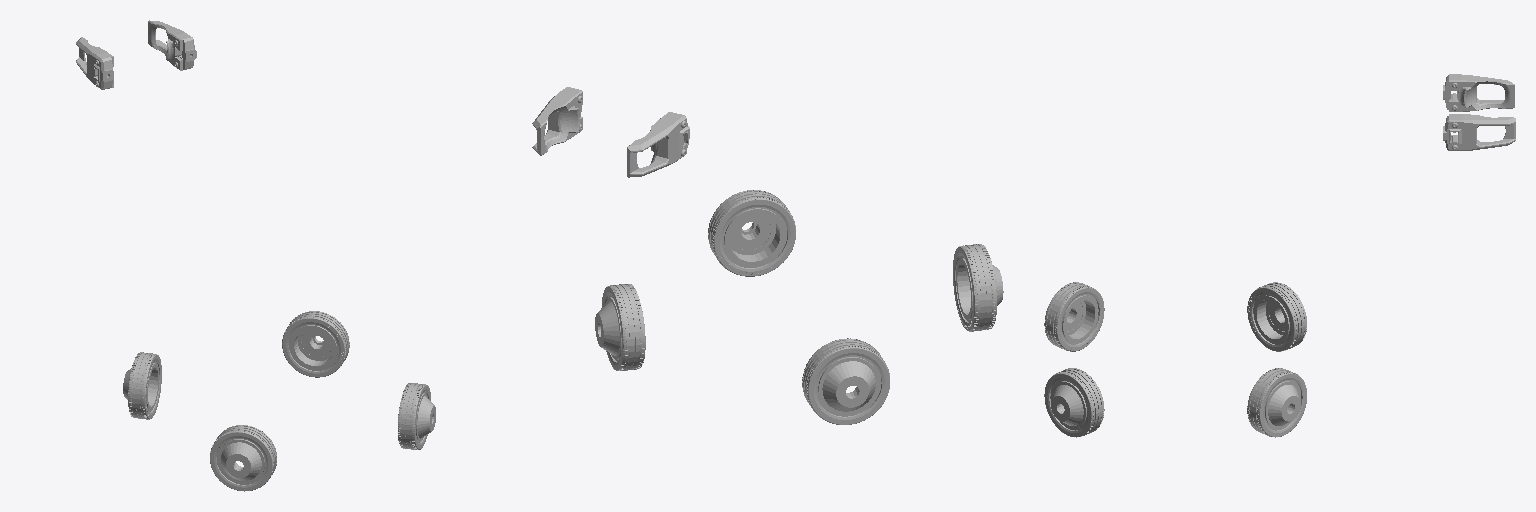
The robot description file, URDF, robot "omnidirectbot":
<?xml version="1.0" encoding="utf-8"?>
<!-- This URDF was automatically created by SolidWorks to URDF Exporter! Originally created by [author] ([email redacted]) 
     Commit Version: 1.6.0-1-g15f4949  Build Version: 1.6.7594.29634
     For more information, please see http://wiki.ros.org/sw_urdf_exporter -->
<robot
  name="omnidirectbot">
  <link
    name="base_link">
    <inertial>
      <origin
        xyz="0.0159721095649099 0.00224275619197631 0.1345375772092"
        rpy="0 0 0" />
      <mass
        value="0.828550966382806" />
      <inertia
        ixx="0.00274004667548087"
        ixy="2.8115139611349E-06"
        ixz="6.72388559675742E-08"
        iyy="0.00289809377513454"
        iyz="2.13313382622723E-06"
        izz="0.00505022876581928" />
    </inertial>
    <visual>
      <origin
        xyz="0 0 0"
        rpy="0 0 0" />
      <geometry>
        <mesh
          filename="package://omnidirectbot/meshes/base_link.STL" />
      </geometry>
      <material
        name="">
        <color
          rgba="0.749019607843137 0.749019607843137 0.749019607843137 1" />
      </material>
    </visual>
    <collision>
      <origin
        xyz="0 0 0"
        rpy="0 0 0" />
      <geometry>
        <mesh
          filename="package://omnidirectbot/meshes/base_link.STL" />
      </geometry>
    </collision>
  </link>
  <link
    name="caster_link1">
    <inertial>
      <origin
        xyz="-0.0155552849466845 -0.0590998386941178 -4.84880240054358E-06"
        rpy="0 0 0" />
      <mass
        value="0.0799093668159606" />
      <inertia
        ixx="2.04076055004472E-05"
        ixy="4.58261027105807E-06"
        ixz="1.13538002349658E-10"
        iyy="2.05066023129978E-05"
        iyz="-7.52578086408992E-11"
        izz="2.39023505326146E-05" />
    </inertial>
    <visual>
      <origin
        xyz="0 0 0"
        rpy="0 0 0" />
      <geometry>
        <mesh
          filename="package://omnidirectbot/meshes/caster_link1.STL" />
      </geometry>
      <material
        name="">
        <color
          rgba="0.749019607843137 0.749019607843137 0.749019607843137 1" />
      </material>
    </visual>
    <collision>
      <origin
        xyz="0 0 0"
        rpy="0 0 0" />
      <geometry>
        <mesh
          filename="package://omnidirectbot/meshes/caster_link1.STL" />
      </geometry>
    </collision>
  </link>
  <joint
    name="caster_joint1"
    type="revolute">
    <origin
      xyz="-0.08181 0.099193 0.17623"
      rpy="1.5708 0 -0.7854" />
    <parent
      link="base_link" />
    <child
      link="caster_link1" />
    <axis
      xyz="0 -1 0" />
    <limit
      lower="-1.57"
      upper="1.57"
      effort="0"
      velocity="0" />
  </joint>
  <link
    name="wheel_link1">
    <inertial>
      <origin
        xyz="2.40854054799067E-06 -1.56676912355103E-06 -0.00303861065239627"
        rpy="0 0 0" />
      <mass
        value="0.0450942716330638" />
      <inertia
        ixx="1.52670658972737E-05"
        ixy="7.70178129590836E-10"
        ixz="-9.81587682242567E-10"
        iyy="1.52692704899531E-05"
        iyz="6.47560386175647E-10"
        izz="2.6872754179264E-05" />
    </inertial>
    <visual>
      <origin
        xyz="0 0 0"
        rpy="0 0 0" />
      <geometry>
        <mesh
          filename="package://omnidirectbot/meshes/wheel_link1.STL" />
      </geometry>
      <material
        name="">
        <color
          rgba="0.749019607843137 0.749019607843137 0.749019607843137 1" />
      </material>
    </visual>
    <collision>
      <origin
        xyz="0 0 0"
        rpy="0 0 0" />
      <geometry>
        <mesh
          filename="package://omnidirectbot/meshes/wheel_link1.STL" />
      </geometry>
    </collision>
  </link>
  <joint
    name="wheel_joint1"
    type="continuous">
    <origin
      xyz="0 -0.080086 0"
      rpy="-1.5708 -0.84881 -1.5708" />
    <parent
      link="caster_link1" />
    <child
      link="wheel_link1" />
    <axis
      xyz="0 0 1" />
  </joint>
  <link
    name="caster_link2">
    <inertial>
      <origin
        xyz="-0.0155552849407855 -0.05909983905751 -4.8488152321613E-06"
        rpy="0 0 0" />
      <mass
        value="0.0799093668004115" />
      <inertia
        ixx="2.04076055002732E-05"
        ixy="4.5826102710524E-06"
        ixz="1.13535685052168E-10"
        iyy="2.05066023128727E-05"
        iyz="-7.52578170240386E-11"
        izz="2.39023505324843E-05" />
    </inertial>
    <visual>
      <origin
        xyz="0 0 0"
        rpy="0 0 0" />
      <geometry>
        <mesh
          filename="package://omnidirectbot/meshes/caster_link2.STL" />
      </geometry>
      <material
        name="">
        <color
          rgba="0.749019607843137 0.749019607843137 0.749019607843137 1" />
      </material>
    </visual>
    <collision>
      <origin
        xyz="0 0 0"
        rpy="0 0 0" />
      <geometry>
        <mesh
          filename="package://omnidirectbot/meshes/caster_link2.STL" />
      </geometry>
    </collision>
  </link>
  <joint
    name="caster_joint2"
    type="revolute">
    <origin
      xyz="0.11405 0.099122 0.17623"
      rpy="1.5708 0 -2.3562" />
    <parent
      link="base_link" />
    <child
      link="caster_link2" />
    <axis
      xyz="0 -1 0" />
    <limit
      lower="-1.57"
      upper="1.57"
      effort="0"
      velocity="0" />
  </joint>
  <link
    name="wheel_link2">
    <inertial>
      <origin
        xyz="-8.86769340457949E-07 -2.7338066356658E-06 -0.00303861109042136"
        rpy="0 0 0" />
      <mass
        value="0.0450942715750492" />
      <inertia
        ixx="1.52695041439647E-05"
        ixy="-1.19409694320958E-10"
        ixz="3.70462080070691E-10"
        iyy="1.52668318805047E-05"
        iyz="1.11627420840805E-09"
        izz="2.68727541461807E-05" />
    </inertial>
    <visual>
      <origin
        xyz="0 0 0"
        rpy="0 0 0" />
      <geometry>
        <mesh
          filename="package://omnidirectbot/meshes/wheel_link2.STL" />
      </geometry>
      <material
        name="">
        <color
          rgba="0.749019607843137 0.749019607843137 0.749019607843137 1" />
      </material>
    </visual>
    <collision>
      <origin
        xyz="0 0 0"
        rpy="0 0 0" />
      <geometry>
        <mesh
          filename="package://omnidirectbot/meshes/wheel_link2.STL" />
      </geometry>
    </collision>
  </link>
  <joint
    name="wheel_joint2"
    type="continuous">
    <origin
      xyz="0 -0.080086 0"
      rpy="1.5708 -0.81739 1.5708" />
    <parent
      link="caster_link2" />
    <child
      link="wheel_link2" />
    <axis
      xyz="0 0 1" />
  </joint>
  <link
    name="caster_link3">
    <inertial>
      <origin
        xyz="-0.0155552850671327 -0.0590998391449928 -4.84882023318867E-06"
        rpy="0 0 0" />
      <mass
        value="0.0799093671374404" />
      <inertia
        ixx="2.04076055040449E-05"
        ixy="4.58261027107902E-06"
        ixz="1.13534672037185E-10"
        iyy="2.05066023156955E-05"
        iyz="-7.52578205938046E-11"
        izz="2.39023505353079E-05" />
    </inertial>
    <visual>
      <origin
        xyz="0 0 0"
        rpy="0 0 0" />
      <geometry>
        <mesh
          filename="package://omnidirectbot/meshes/caster_link3.STL" />
      </geometry>
      <material
        name="">
        <color
          rgba="0.749019607843137 0.749019607843137 0.749019607843137 1" />
      </material>
    </visual>
    <collision>
      <origin
        xyz="0 0 0"
        rpy="0 0 0" />
      <geometry>
        <mesh
          filename="package://omnidirectbot/meshes/caster_link3.STL" />
      </geometry>
    </collision>
  </link>
  <joint
    name="caster_joint3"
    type="revolute">
    <origin
      xyz="-0.081881 -0.096667 0.17623"
      rpy="1.5708 0 0.7854" />
    <parent
      link="base_link" />
    <child
      link="caster_link3" />
    <axis
      xyz="0 -1 0" />
    <limit
      lower="-1.57"
      upper="1.57"
      effort="0"
      velocity="0" />
  </joint>
  <link
    name="wheel_link3">
    <inertial>
      <origin
        xyz="-2.82887973858392E-06 -4.89261457944923E-07 -0.00303861196716623"
        rpy="0 0 0" />
      <mass
        value="0.0450942715746105" />
      <inertia
        ixx="1.52673097667287E-05"
        ixy="-1.0367335073758E-09"
        ixz="1.1592980387725E-09"
        iyy="1.52690255862927E-05"
        iyz="1.92220470125054E-10"
        izz="2.68727541458412E-05" />
    </inertial>
    <visual>
      <origin
        xyz="0 0 0"
        rpy="0 0 0" />
      <geometry>
        <mesh
          filename="package://omnidirectbot/meshes/wheel_link3.STL" />
      </geometry>
      <material
        name="">
        <color
          rgba="0.749019607843137 0.749019607843137 0.749019607843137 1" />
      </material>
    </visual>
    <collision>
      <origin
        xyz="0 0 0"
        rpy="0 0 0" />
      <geometry>
        <mesh
          filename="package://omnidirectbot/meshes/wheel_link3.STL" />
      </geometry>
    </collision>
  </link>
  <joint
    name="wheel_joint3"
    type="continuous">
    <origin
      xyz="0 -0.080086 0"
      rpy="1.5708 -0.036844 1.5708" />
    <parent
      link="caster_link3" />
    <child
      link="wheel_link3" />
    <axis
      xyz="0 0 1" />
  </joint>
  <link
    name="caster_link4">
    <inertial>
      <origin
        xyz="-0.0155552848609414 -0.0590998390064758 -5.48488182232632E-05"
        rpy="0 0 0" />
      <mass
        value="0.0799093666079426" />
      <inertia
        ixx="2.04076054981193E-05"
        ixy="4.58261027096989E-06"
        ixz="1.13537469331306E-10"
        iyy="2.05066023113094E-05"
        iyz="-7.52578107495066E-11"
        izz="2.39023505309242E-05" />
    </inertial>
    <visual>
      <origin
        xyz="0 0 0"
        rpy="0 0 0" />
      <geometry>
        <mesh
          filename="package://omnidirectbot/meshes/caster_link4.STL" />
      </geometry>
      <material
        name="">
        <color
          rgba="0.749019607843137 0.749019607843137 0.749019607843137 1" />
      </material>
    </visual>
    <collision>
      <origin
        xyz="0 0 0"
        rpy="0 0 0" />
      <geometry>
        <mesh
          filename="package://omnidirectbot/meshes/caster_link4.STL" />
      </geometry>
    </collision>
  </link>
  <joint
    name="caster_joint4"
    type="revolute">
    <origin
      xyz="0.11409 -0.096631 0.17623"
      rpy="1.5708 0 2.3562" />
    <parent
      link="base_link" />
    <child
      link="caster_link4" />
    <axis
      xyz="0 -1 0" />
    <limit
      lower="-1.57"
      upper="1.57"
      effort="0"
      velocity="0" />
  </joint>
  <link
    name="wheel_link4">
    <inertial>
      <origin
        xyz="0.00303861196739572 1.95956082350152E-06 -2.09745763153635E-06"
        rpy="0 0 0" />
      <mass
        value="0.0450942715735576" />
      <inertia
        ixx="2.68727541461959E-05"
        ixy="8.08074819096868E-10"
        ixz="-8.52983778452163E-10"
        iyy="1.52689336034599E-05"
        iyz="1.10666062120856E-09"
        izz="1.52674017498127E-05" />
    </inertial>
    <visual>
      <origin
        xyz="0 0 0"
        rpy="0 0 0" />
      <geometry>
        <mesh
          filename="package://omnidirectbot/meshes/wheel_link4.STL" />
      </geometry>
      <material
        name="">
        <color
          rgba="0.749019607843137 0.749019607843137 0.749019607843137 1" />
      </material>
    </visual>
    <collision>
      <origin
        xyz="0 0 0"
        rpy="0 0 0" />
      <geometry>
        <mesh
          filename="package://omnidirectbot/meshes/wheel_link4.STL" />
      </geometry>
    </collision>
  </link>
  <joint
    name="wheel_joint4"
    type="continuous">
    <origin
      xyz="0 -0.080086 -5E-05"
      rpy="1.0701 0 -3.1416" />
    <parent
      link="caster_link4" />
    <child
      link="wheel_link4" />
    <axis
      xyz="-1 0 0" />
  </joint>
  <link
    name="arm_link1">
    <inertial>
      <origin
        xyz="-0.000752026190226237 0.0180936775412316 -0.0011577321151639"
        rpy="0 0 0" />
      <mass
        value="0.0651397661322798" />
      <inertia
        ixx="2.43954882193296E-05"
        ixy="-4.54900131538805E-08"
        ixz="2.84725500162364E-08"
        iyy="3.74885604342254E-05"
        iyz="3.76202075378381E-08"
        izz="2.49928523588235E-05" />
    </inertial>
    <visual>
      <origin
        xyz="0 0 0"
        rpy="0 0 0" />
      <geometry>
        <mesh
          filename="package://omnidirectbot/meshes/arm_link1.STL" />
      </geometry>
      <material
        name="">
        <color
          rgba="0.996078431372549 0.996078431372549 1 1" />
      </material>
    </visual>
    <collision>
      <origin
        xyz="0 0 0"
        rpy="0 0 0" />
      <geometry>
        <mesh
          filename="package://omnidirectbot/meshes/arm_link1.STL" />
      </geometry>
    </collision>
  </link>
  <joint
    name="arm_joint1"
    type="revolute">
    <origin
      xyz="0.016085 0.0012277 0.17603"
      rpy="1.5708 0 1.5708" />
    <parent
      link="base_link" />
    <child
      link="arm_link1" />
    <axis
      xyz="0 -1 0" />
    <limit
      lower="-1.57"
      upper="1.57"
      effort="0"
      velocity="0" />
  </joint>
  <link
    name="arm_link2">
    <inertial>
      <origin
        xyz="-0.0912947093746102 -0.0182924123376454 -0.00966983332273864"
        rpy="0 0 0" />
      <mass
        value="0.0938705648170834" />
      <inertia
        ixx="1.41599108093718E-05"
        ixy="-7.2465795297169E-09"
        ixz="-1.59852044361437E-06"
        iyy="4.22627440455491E-05"
        iyz="-3.52460708571515E-08"
        izz="3.50681459235357E-05" />
    </inertial>
    <visual>
      <origin
        xyz="0 0 0"
        rpy="0 0 0" />
      <geometry>
        <mesh
          filename="package://omnidirectbot/meshes/arm_link2.STL" />
      </geometry>
      <material
        name="">
        <color
          rgba="0.996078431372549 0.996078431372549 1 1" />
      </material>
    </visual>
    <collision>
      <origin
        xyz="0 0 0"
        rpy="0 0 0" />
      <geometry>
        <mesh
          filename="package://omnidirectbot/meshes/arm_link2.STL" />
      </geometry>
    </collision>
  </link>
  <joint
    name="arm_joint2"
    type="revolute">
    <origin
      xyz="0 0.04625 0.0176"
      rpy="1.5708 0 -1.5708" />
    <parent
      link="arm_link1" />
    <child
      link="arm_link2" />
    <axis
      xyz="0 1 0" />
    <limit
      lower="-1.57"
      upper="1.57"
      effort="0"
      velocity="0" />
  </joint>
  <link
    name="arm_link3">
    <inertial>
      <origin
        xyz="-0.0182687991697674 -0.0135886829308107 0.0740296096450109"
        rpy="0 0 0" />
      <mass
        value="0.0825405885709327" />
      <inertia
        ixx="2.90819800716655E-05"
        ixy="6.1757199863465E-09"
        ixz="3.29512143868356E-08"
        iyy="2.36535279102476E-05"
        iyz="2.33723868819152E-06"
        izz="1.10874945911255E-05" />
    </inertial>
    <visual>
      <origin
        xyz="0 0 0"
        rpy="0 0 0" />
      <geometry>
        <mesh
          filename="package://omnidirectbot/meshes/arm_link3.STL" />
      </geometry>
      <material
        name="">
        <color
          rgba="0.745098039215686 0.737254901960784 0.729411764705882 1" />
      </material>
    </visual>
    <collision>
      <origin
        xyz="0 0 0"
        rpy="0 0 0" />
      <geometry>
        <mesh
          filename="package://omnidirectbot/meshes/arm_link3.STL" />
      </geometry>
    </collision>
  </link>
  <joint
    name="arm_joint3"
    type="revolute">
    <origin
      xyz="-0.137 0.0002 -0.04755"
      rpy="2.9608 0 1.5708" />
    <parent
      link="arm_link2" />
    <child
      link="arm_link3" />
    <axis
      xyz="-1 0 0" />
    <limit
      lower="-1.57"
      upper="1.57"
      effort="0"
      velocity="0" />
  </joint>
  <link
    name="arm_link4">
    <inertial>
      <origin
        xyz="0.0284610203255143 -0.0174036283745929 0.0480577312472342"
        rpy="0 0 0" />
      <mass
        value="0.100613003618247" />
      <inertia
        ixx="5.68282223773968E-05"
        ixy="-3.39222816961432E-08"
        ixz="-1.01512579805851E-06"
        iyy="1.67039081838444E-05"
        iyz="-2.33334411272346E-07"
        izz="6.12680798908221E-05" />
    </inertial>
    <visual>
      <origin
        xyz="0 0 0"
        rpy="0 0 0" />
      <geometry>
        <mesh
          filename="package://omnidirectbot/meshes/arm_link4.STL" />
      </geometry>
      <material
        name="">
        <color
          rgba="0.996078431372549 0.996078431372549 1 1" />
      </material>
    </visual>
    <collision>
      <origin
        xyz="0 0 0"
        rpy="0 0 0" />
      <geometry>
        <mesh
          filename="package://omnidirectbot/meshes/arm_link4.STL" />
      </geometry>
    </collision>
  </link>
  <joint
    name="arm_joint4"
    type="revolute">
    <origin
      xyz="0.0002 -0.024943 0.13598"
      rpy="0 0.1808 -1.5708" />
    <parent
      link="arm_link3" />
    <child
      link="arm_link4" />
    <axis
      xyz="0 1 0" />
    <limit
      lower="-1.57"
      upper="1.57"
      effort="0"
      velocity="0" />
  </joint>
  <link
    name="gripper_link1">
    <inertial>
      <origin
        xyz="1.82964687844844E-08 0.00824933254630964 0.0184708003713731"
        rpy="0 0 0" />
      <mass
        value="0.0180940684774838" />
      <inertia
        ixx="3.49410179132563E-06"
        ixy="-1.5668377814591E-12"
        ixz="4.95814443819984E-12"
        iyy="4.94469935808064E-06"
        iyz="1.27521217510343E-08"
        izz="2.15398873703311E-06" />
    </inertial>
    <visual>
      <origin
        xyz="0 0 0"
        rpy="0 0 0" />
      <geometry>
        <mesh
          filename="package://omnidirectbot/meshes/gripper_link1.STL" />
      </geometry>
      <material
        name="">
        <color
          rgba="0.749019607843137 0.749019607843137 0.749019607843137 1" />
      </material>
    </visual>
    <collision>
      <origin
        xyz="0 0 0"
        rpy="0 0 0" />
      <geometry>
        <mesh
          filename="package://omnidirectbot/meshes/gripper_link1.STL" />
      </geometry>
    </collision>
  </link>
  <joint
    name="gripper_joint1"
    type="prismatic">
    <origin
      xyz="-0.00012864 -0.0713 0.1159"
      rpy="-3.1416 0 3.1416" />
    <parent
      link="arm_link4" />
    <child
      link="gripper_link1" />
    <axis
      xyz="0 -1 0" />
    <limit
      lower="-0.04"
      upper="0"
      effort="0"
      velocity="0" />
  </joint>
  <link
    name="gripper_link2">
    <inertial>
      <origin
        xyz="1.84123709057182E-08 0.00824933250548065 0.0184708003682835"
        rpy="0 0 0" />
      <mass
        value="0.018094068316114" />
      <inertia
        ixx="3.49410178495327E-06"
        ixy="-1.59500305785378E-12"
        ixz="4.94062078701807E-12"
        iyy="4.94469937522808E-06"
        iyz="1.27521268723169E-08"
        izz="2.15398877300651E-06" />
    </inertial>
    <visual>
      <origin
        xyz="0 0 0"
        rpy="0 0 0" />
      <geometry>
        <mesh
          filename="package://omnidirectbot/meshes/gripper_link2.STL" />
      </geometry>
      <material
        name="">
        <color
          rgba="0.749019607843137 0.749019607843137 0.749019607843137 1" />
      </material>
    </visual>
    <collision>
      <origin
        xyz="0 0 0"
        rpy="0 0 0" />
      <geometry>
        <mesh
          filename="package://omnidirectbot/meshes/gripper_link2.STL" />
      </geometry>
    </collision>
  </link>
  <joint
    name="gripper_joint2"
    type="prismatic">
    <origin
      xyz="-0.00010364 0.035723 0.11608"
      rpy="3.1416 0 0" />
    <parent
      link="arm_link4" />
    <child
      link="gripper_link2" />
    <axis
      xyz="0 1 0" />
    <limit
      lower="0"
      upper="0.04"
      effort="0"
      velocity="0" />
  </joint>
</robot>

--- Facts derived from the render (not from the file) ---
3 views of the same robot in one strip: view 1: azimuth 30°, elevation 25°; view 2: azimuth 150°, elevation 25°; view 3: azimuth 270°, elevation 25° (orthographic).
Model omnidirectbot with 15 links and 14 joints (8 revolute, 4 continuous, 2 prismatic), rooted at base_link, posed all joints at 0.
Visible links, largest first — view 1: wheel_link2, wheel_link3, wheel_link1, wheel_link4, gripper_link2, gripper_link1; view 2: wheel_link4, wheel_link1, wheel_link2, wheel_link3, gripper_link1, gripper_link2; view 3: wheel_link2, wheel_link1, wheel_link3, wheel_link4, gripper_link2, gripper_link1.
Link boxes in pixels (bbox=[...]): wheel_link2: bbox=[282, 311, 349, 377]; wheel_link3: bbox=[210, 425, 276, 491]; wheel_link1: bbox=[123, 352, 161, 419]; wheel_link4: bbox=[398, 383, 435, 449]; gripper_link2: bbox=[148, 20, 196, 70]; gripper_link1: bbox=[76, 37, 113, 89]; wheel_link4: bbox=[708, 190, 795, 276]; wheel_link1: bbox=[802, 338, 889, 424]; wheel_link2: bbox=[595, 284, 645, 370]; wheel_link3: bbox=[953, 244, 1003, 331]; gripper_link1: bbox=[627, 112, 689, 177]; gripper_link2: bbox=[532, 87, 582, 155]; wheel_link2: bbox=[1247, 368, 1306, 437]; wheel_link1: bbox=[1247, 282, 1306, 351]; wheel_link3: bbox=[1044, 282, 1104, 351]; wheel_link4: bbox=[1044, 368, 1104, 437]; gripper_link2: bbox=[1443, 114, 1515, 150]; gripper_link1: bbox=[1443, 74, 1514, 111].
Bounding box of the posed robot: 0.2539 × 0.4548 × 0.3131 m (x, y, z).
Meshes: 15 distinct files referenced, 6 mesh visuals loaded (6 binary STL); not drawn: 9 (reference not matched to a file when rendering).